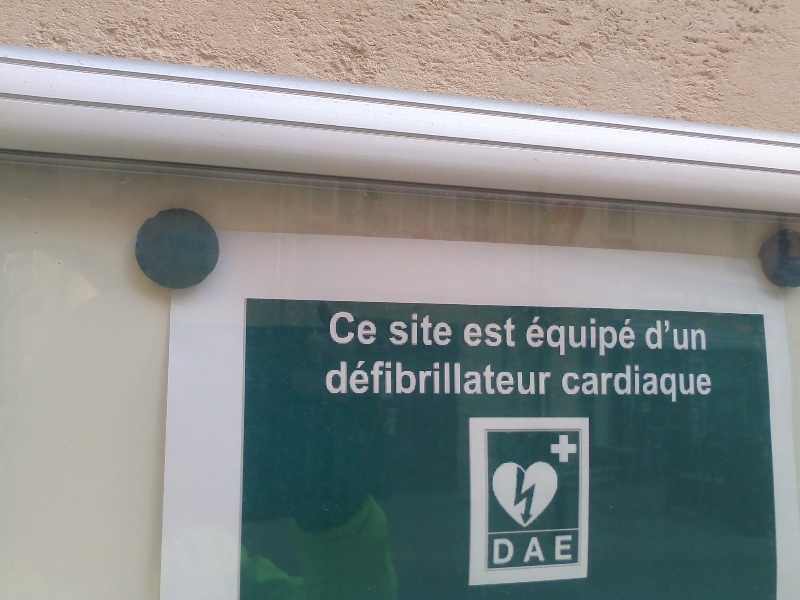text: (529, 315, 544, 357), (545, 315, 560, 357), (561, 315, 576, 357), (577, 315, 592, 357), (593, 315, 608, 357), (609, 315, 624, 357), (577, 363, 592, 404), (593, 363, 608, 404), (609, 363, 624, 404), (625, 363, 640, 404), (641, 363, 656, 404), (657, 363, 672, 404), (673, 363, 688, 404), (689, 363, 704, 404), (562, 363, 576, 404), (337, 358, 352, 396), (353, 358, 368, 396), (369, 358, 384, 396), (385, 358, 400, 396), (401, 358, 416, 396), (417, 358, 432, 396), (433, 358, 448, 396), (449, 358, 464, 396), (465, 358, 480, 396), (481, 358, 496, 396), (497, 358, 512, 396), (513, 358, 528, 396), (529, 358, 544, 396), (337, 311, 352, 346), (353, 311, 368, 346), (401, 313, 416, 347), (417, 313, 432, 347), (433, 313, 448, 347), (657, 318, 672, 352), (673, 318, 688, 352), (689, 318, 704, 352), (465, 316, 480, 347), (481, 316, 496, 347), (497, 316, 512, 347), (625, 315, 636, 357), (324, 358, 336, 396), (561, 434, 576, 464), (643, 318, 656, 352), (497, 538, 512, 565), (705, 363, 714, 404), (545, 358, 554, 396), (390, 313, 400, 347), (532, 537, 544, 563), (550, 434, 560, 464), (561, 535, 572, 561), (369, 311, 377, 346), (329, 311, 336, 346), (513, 316, 518, 347), (449, 313, 453, 347), (555, 535, 560, 561), (525, 315, 528, 357), (461, 316, 464, 347), (493, 538, 496, 565), (705, 318, 707, 352), (513, 538, 515, 565), (545, 537, 547, 563), (577, 434, 578, 464)
